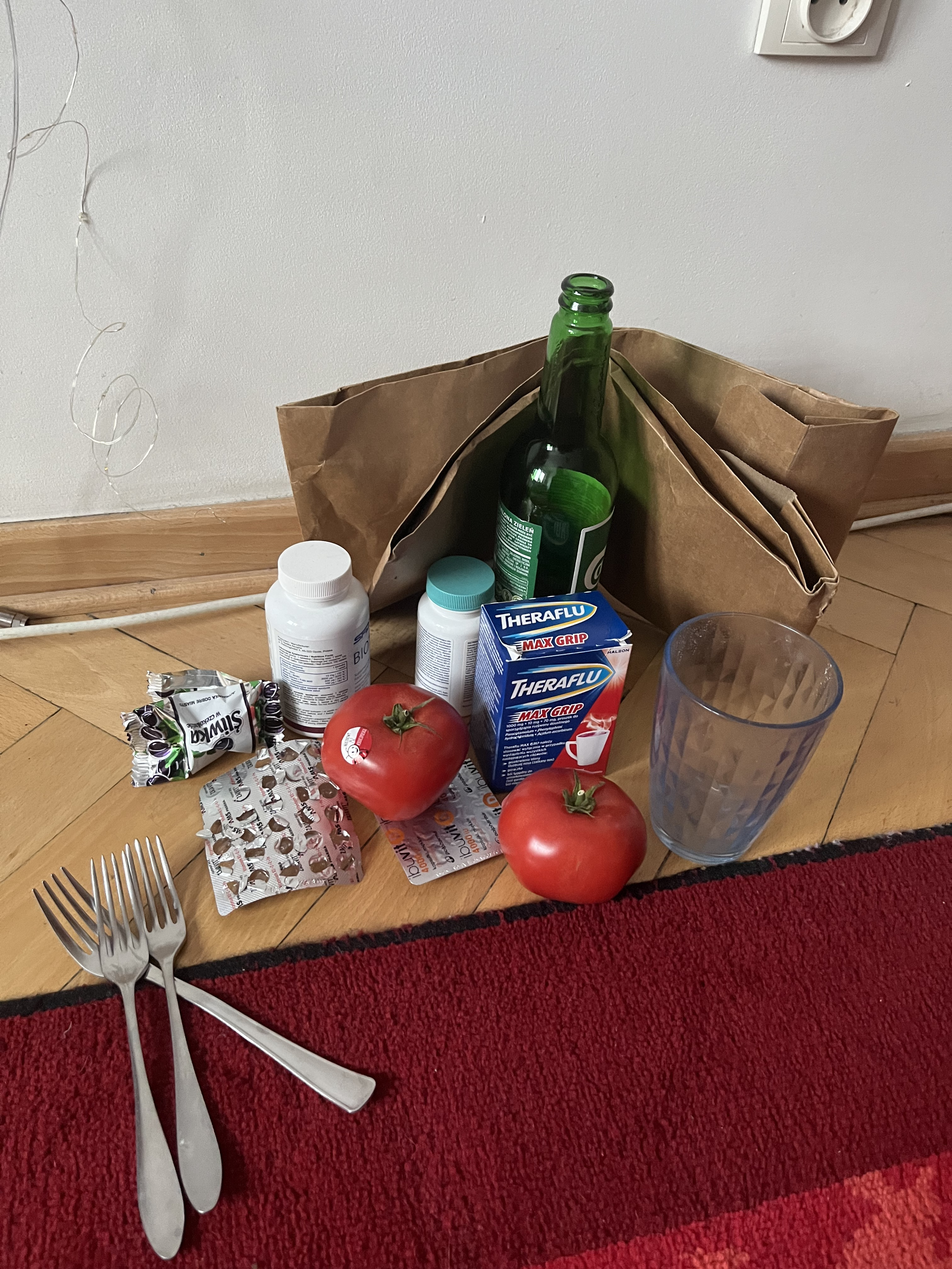BIODEGRADABLE: (492, 760, 665, 900), (302, 679, 477, 816)
CARDBOARD: (269, 312, 911, 647)
GLASS: (697, 569, 875, 876), (541, 264, 656, 630)
METAL: (66, 855, 135, 1254), (123, 851, 200, 1199), (21, 907, 78, 1269)
PAPER: (477, 565, 635, 797)
PLASTIC: (180, 736, 366, 894), (251, 526, 383, 739), (103, 652, 288, 778), (414, 545, 490, 716), (394, 754, 493, 878)
